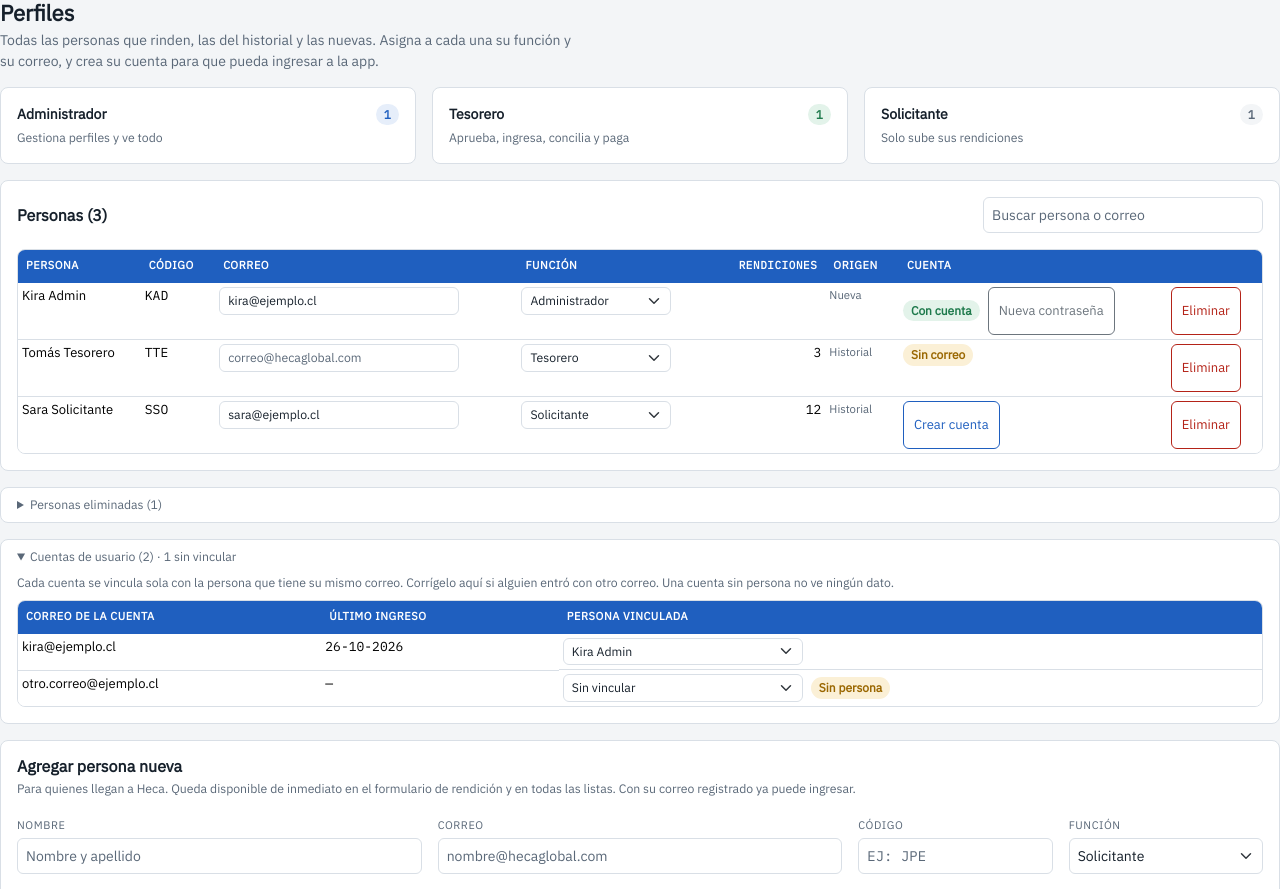
it: PerfilesView › nombrar Tesorero avisa quién pasa a Solicitante
Step 1. Select "Tesorero" in the dropdown named "Función de Sara Solicitante" → (596, 415), box x1=521 y1=401 x2=671 y2=429
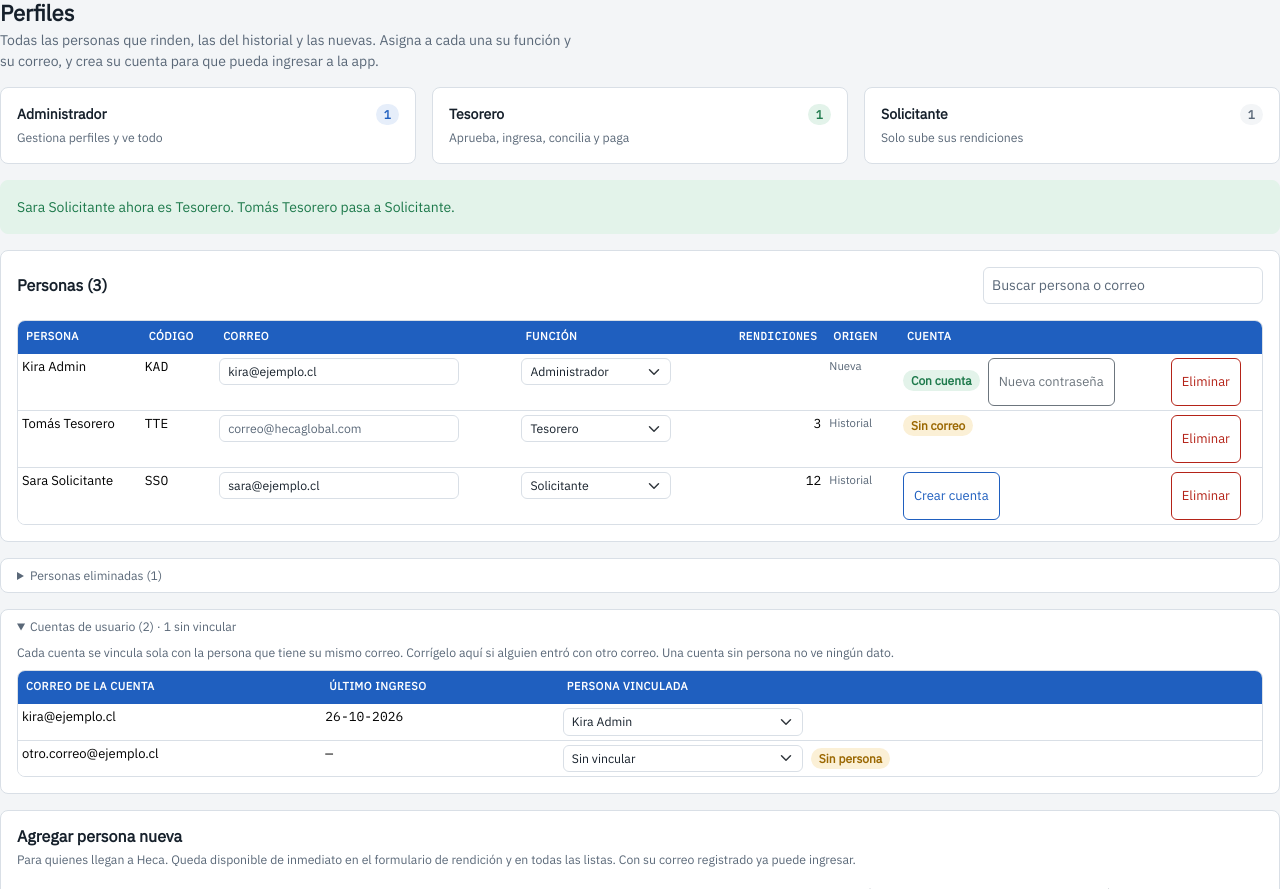
Expected: the message "Sara Solicitante ahora es Tesorero. Tomás Tesorero pasa a Solicitante." is shown, x1=0 y1=180 x2=1279 y2=234
